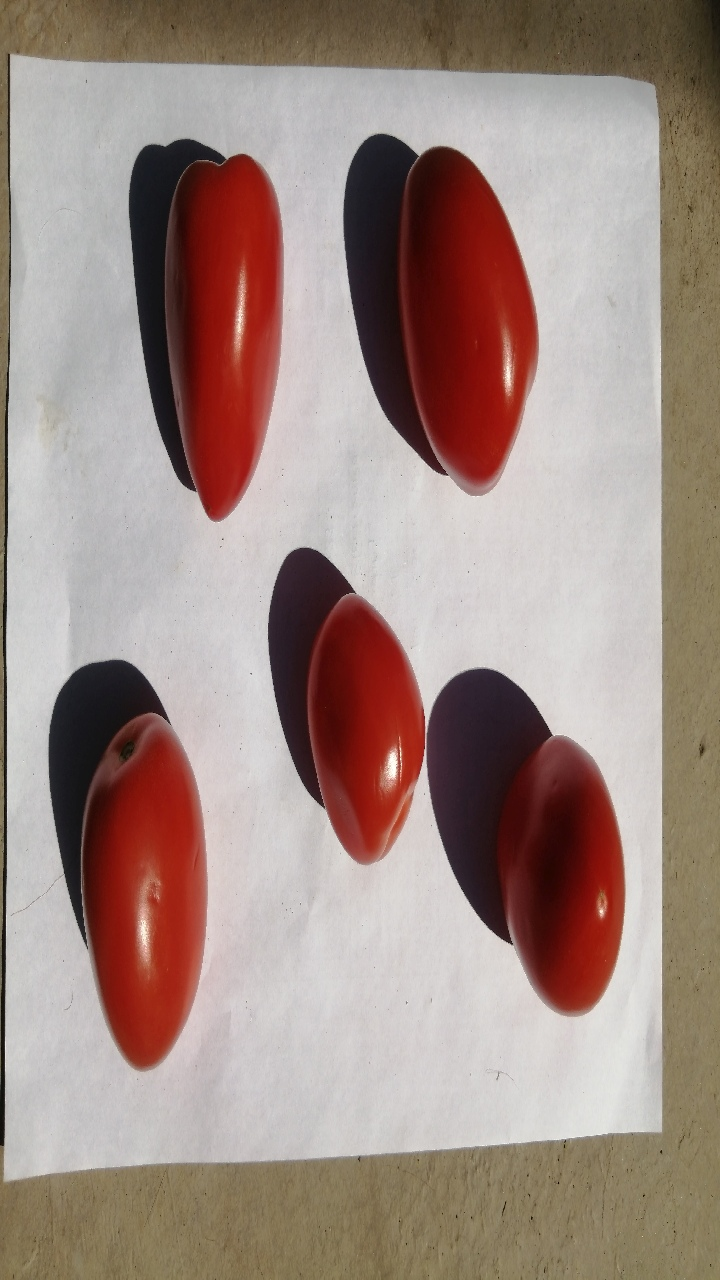tomateRojo: (29, 655, 268, 1094), (343, 100, 581, 517), (115, 109, 318, 568), (449, 662, 649, 1042), (274, 580, 458, 911)
